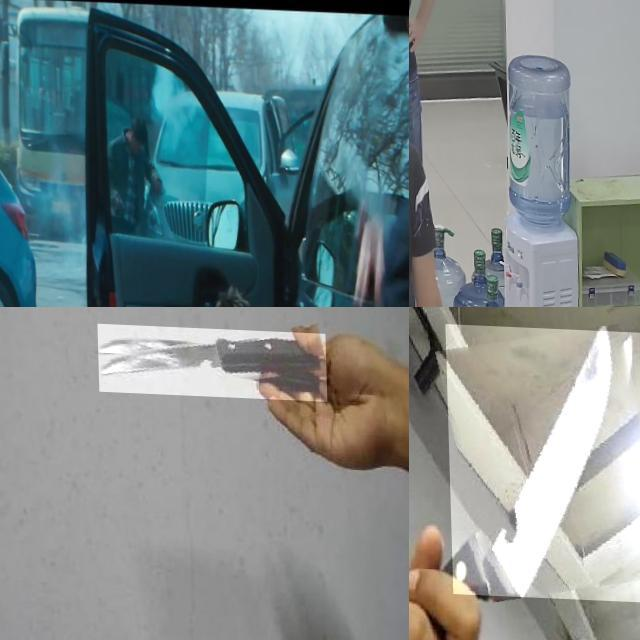-: (444, 320, 640, 598), (96, 322, 326, 397)
gun-knife-thesis - v11 Yolov5 augmented: (0, 80, 9, 109)
